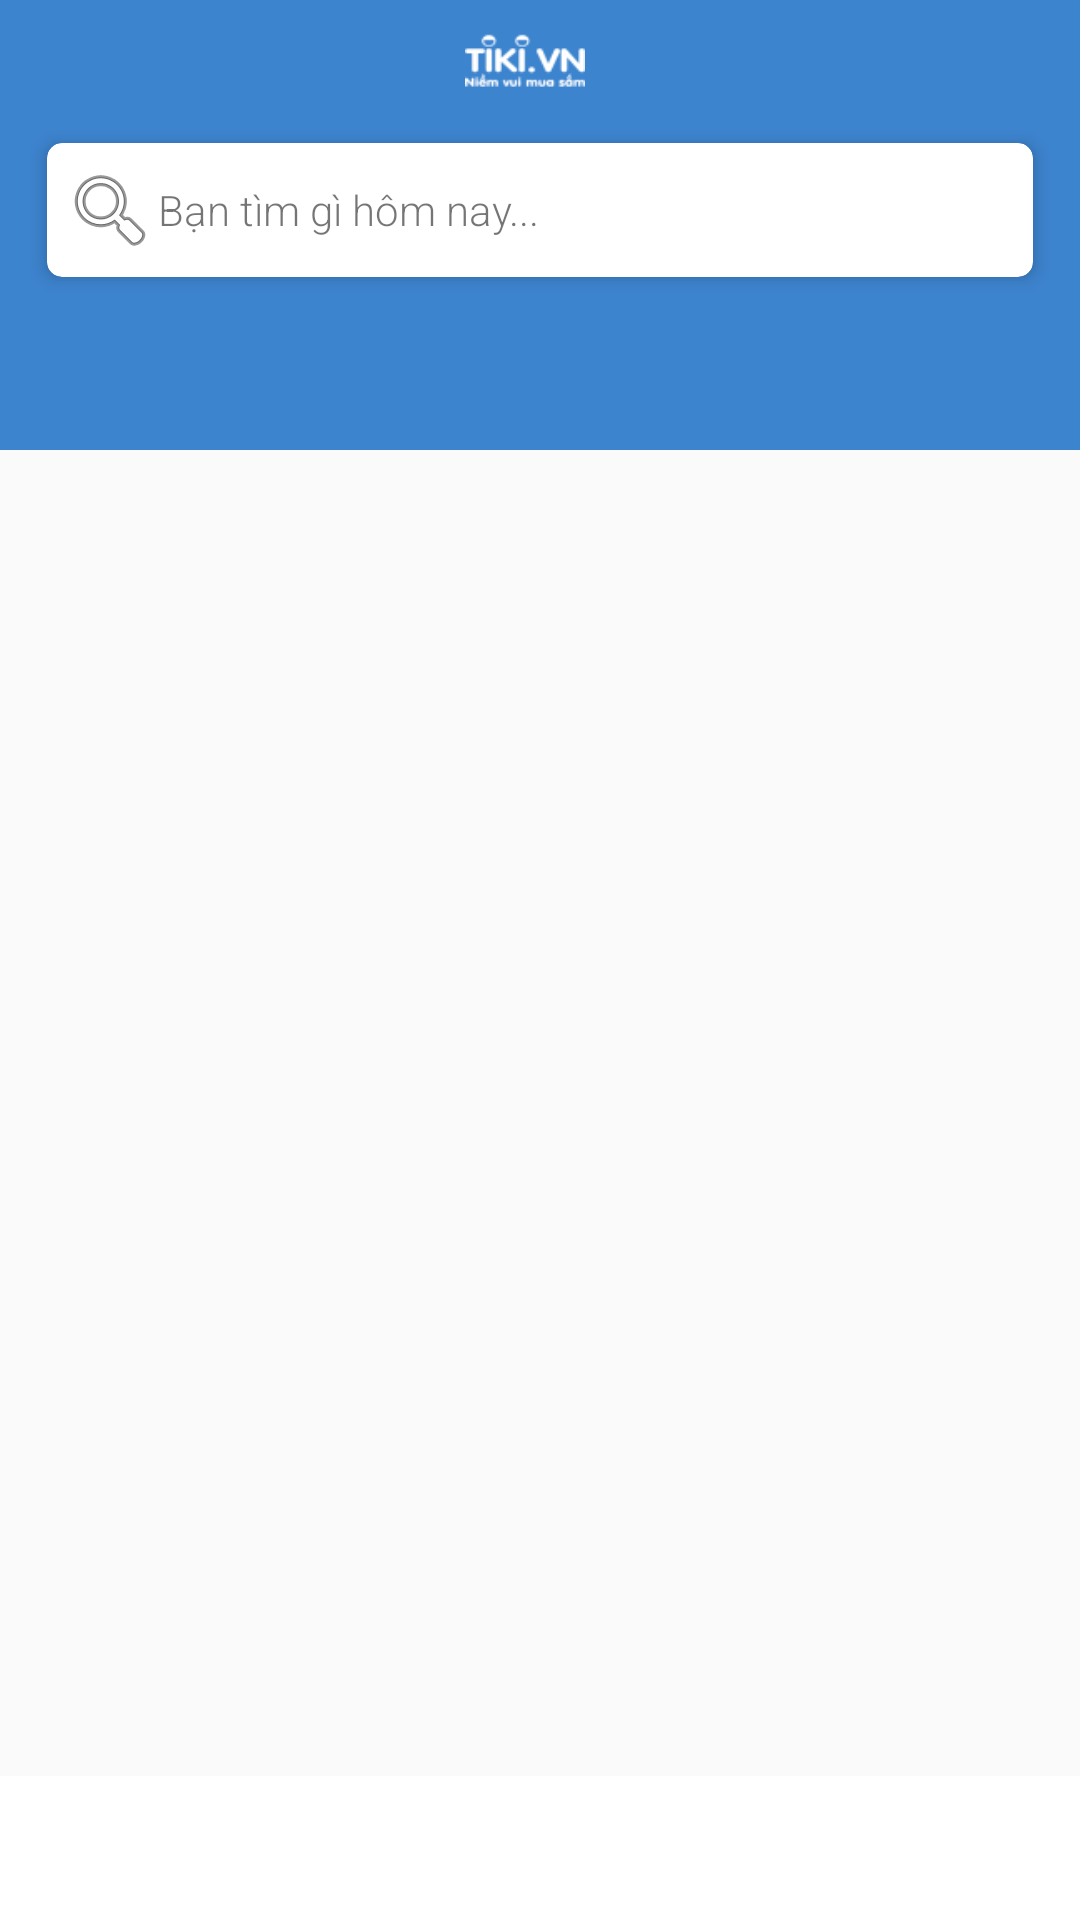

Where icons sit on this 1080px×1920px app screen, as (x1, y1, x2, y2):
search: (74, 175, 146, 246)
